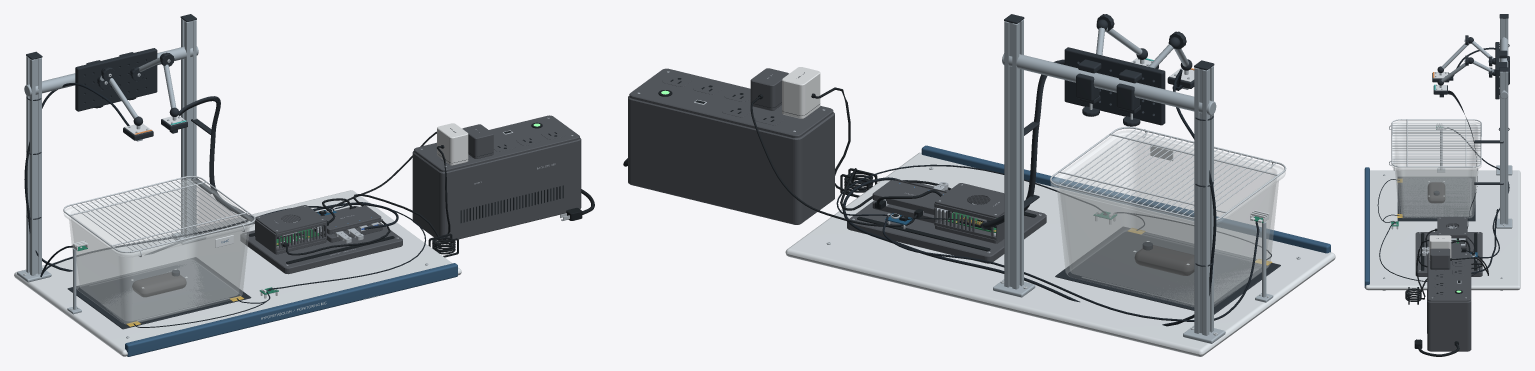
The model's file is instrument.glb.
3 views of the same model, side by side, from view 1: azimuth 30°, elevation 25°; view 2: azimuth 150°, elevation 25°; view 3: azimuth 270°, elevation 25° (orthographic). The views are drawn at different scales.
Visible parts, largest first — view 1: Cage | Polycarbonate 2.5 mm, Machined base plate, EL_APC_BE600M1_UPS_case, Support | Bead-blasted anodized aluminium, Optional piezo | Textured graphite polymer, Front fascia, Camera mounts | Textured graphite polymer, Grid lid | Brushed stainless steel, EL_Carrier_case, Signal routing | Rubber cable jacket, EL_Power_Cables_rubber, EL_Pi5_Case_Lower_case (+9 smaller); view 2: Machined base plate, Cage | Polycarbonate 2.5 mm, EL_APC_BE600M1_UPS_case, Support | Bead-blasted anodized aluminium, Optional piezo | Textured graphite polymer, Camera mounts | Textured graphite polymer, Grid lid | Brushed stainless steel, Signal routing | Rubber cable jacket, Front fascia, EL_Carrier_case, EL_Power_Cables_rubber, EL_StarTech_ST53004U1C_case (+8 smaller); view 3: Machined base plate, Cage | Polycarbonate 2.5 mm, EL_APC_BE600M1_UPS_case, Grid lid | Brushed stainless steel, Optional piezo | Textured graphite polymer, Support | Bead-blasted anodized aluminium, EL_Carrier_case, Camera mounts | Textured graphite polymer, Front fascia, Signal routing | Rubber cable jacket, EL_Power_Cables_rubber, EL_Pi5_Case_Lid_case (+10 smaller).
Boxes of the visible parts, x1=… form: Cage | Polycarbonate 2.5 mm: x1=64, y1=179, x2=254, y2=323; Machined base plate: x1=14, y1=190, x2=461, y2=356; EL_APC_BE600M1_UPS_case: x1=412, y1=115, x2=581, y2=240; Support | Bead-blasted anodized aluminium: x1=17, y1=18, x2=205, y2=282; Optional piezo | Textured graphite polymer: x1=67, y1=257, x2=271, y2=329; Front fascia: x1=125, y1=263, x2=457, y2=356; Camera mounts | Textured graphite polymer: x1=75, y1=48, x2=179, y2=125; Grid lid | Brushed stainless steel: x1=63, y1=176, x2=255, y2=257; EL_Carrier_case: x1=240, y1=206, x2=402, y2=274; Signal routing | Rubber cable jacket: x1=24, y1=83, x2=425, y2=289; EL_Power_Cables_rubber: x1=286, y1=131, x2=458, y2=257; EL_Pi5_Case_Lower_case: x1=255, y1=219, x2=326, y2=254; Machined base plate: x1=785, y1=152, x2=1335, y2=356; Cage | Polycarbonate 2.5 mm: x1=1051, y1=130, x2=1285, y2=306; EL_APC_BE600M1_UPS_case: x1=628, y1=68, x2=834, y2=224; Support | Bead-blasted anodized aluminium: x1=993, y1=19, x2=1225, y2=343; Optional piezo | Textured graphite polymer: x1=1055, y1=213, x2=1280, y2=314; Camera mounts | Textured graphite polymer: x1=1064, y1=14, x2=1192, y2=126; Grid lid | Brushed stainless steel: x1=1050, y1=126, x2=1286, y2=220; Signal routing | Rubber cable jacket: x1=836, y1=69, x2=1259, y2=326; Front fascia: x1=921, y1=145, x2=1330, y2=253; EL_Carrier_case: x1=847, y1=180, x2=1046, y2=263; EL_Power_Cables_rubber: x1=750, y1=87, x2=951, y2=226; EL_StarTech_ST53004U1C_case: x1=872, y1=179, x2=946, y2=223; Machined base plate: x1=1365, y1=170, x2=1520, y2=290; Cage | Polycarbonate 2.5 mm: x1=1391, y1=121, x2=1481, y2=218; EL_APC_BE600M1_UPS_case: x1=1427, y1=252, x2=1471, y2=351; Grid lid | Brushed stainless steel: x1=1389, y1=119, x2=1481, y2=167; Optional piezo | Textured graphite polymer: x1=1395, y1=177, x2=1475, y2=223; Support | Bead-blasted anodized aluminium: x1=1496, y1=18, x2=1512, y2=228; EL_Carrier_case: x1=1415, y1=232, x2=1482, y2=276; Camera mounts | Textured graphite polymer: x1=1437, y1=35, x2=1509, y2=99; Front fascia: x1=1364, y1=167, x2=1369, y2=288; Signal routing | Rubber cable jacket: x1=1379, y1=47, x2=1509, y2=281; EL_Power_Cables_rubber: x1=1405, y1=229, x2=1488, y2=304; EL_Pi5_Case_Lid_case: x1=1437, y1=217, x2=1467, y2=235.
Bounding box in the file's own units: 1.02 × 0.438 × 0.372.
